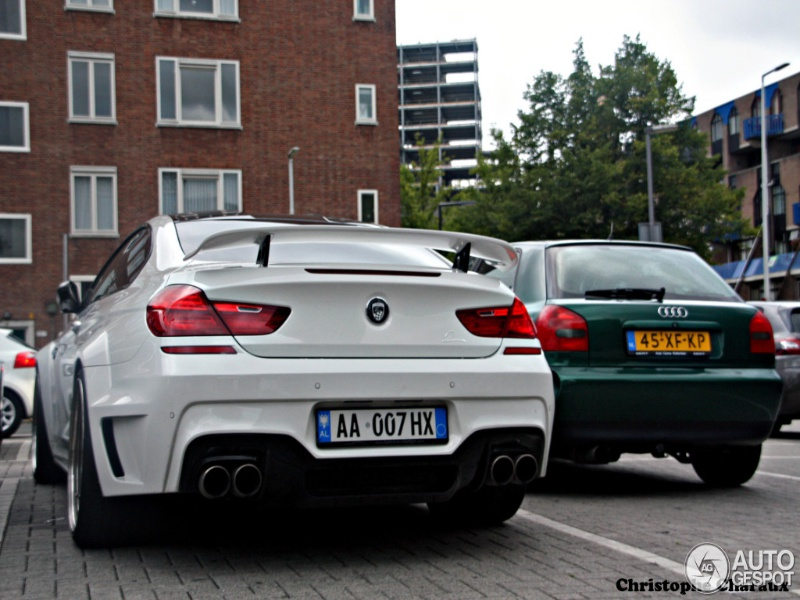licence_plate: (302, 389, 466, 458)
